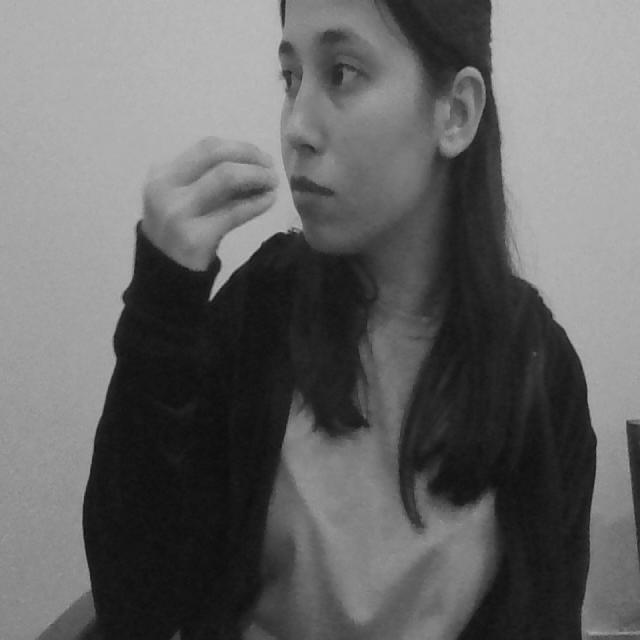Yemek: (141, 133, 353, 219)
